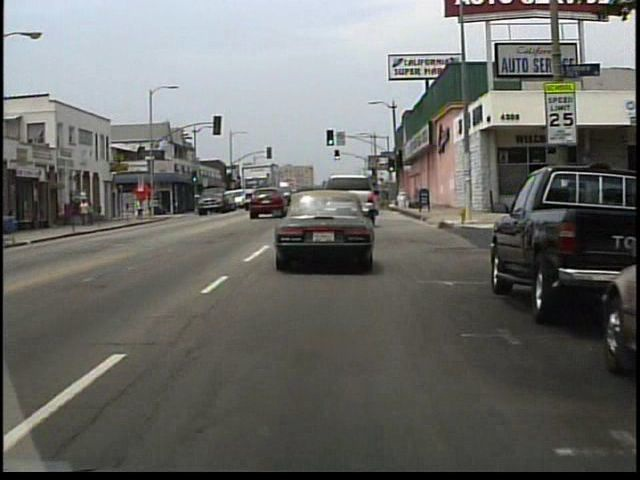person: (80, 198, 91, 226), (89, 200, 97, 226), (137, 198, 146, 219)
